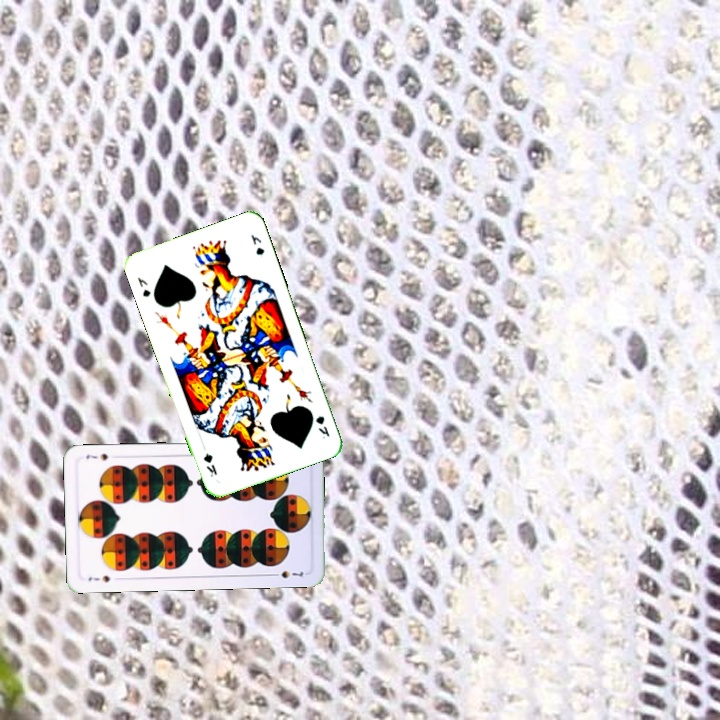GK: (311, 412, 332, 441), (133, 273, 153, 300)
S7: (84, 571, 113, 585)
